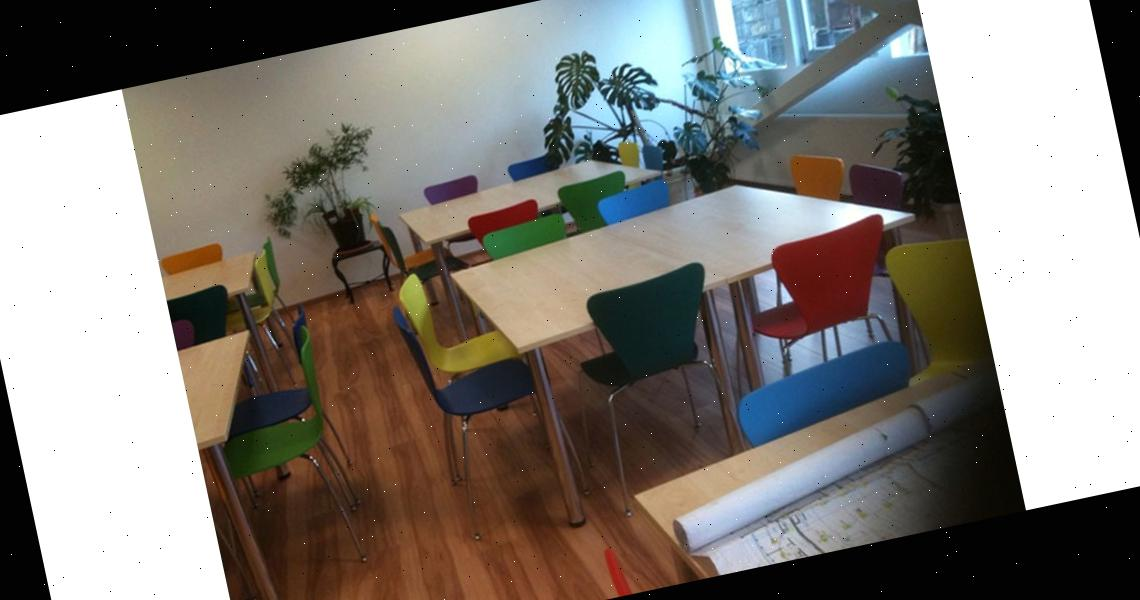Messy Table: (414, 130, 923, 402)
